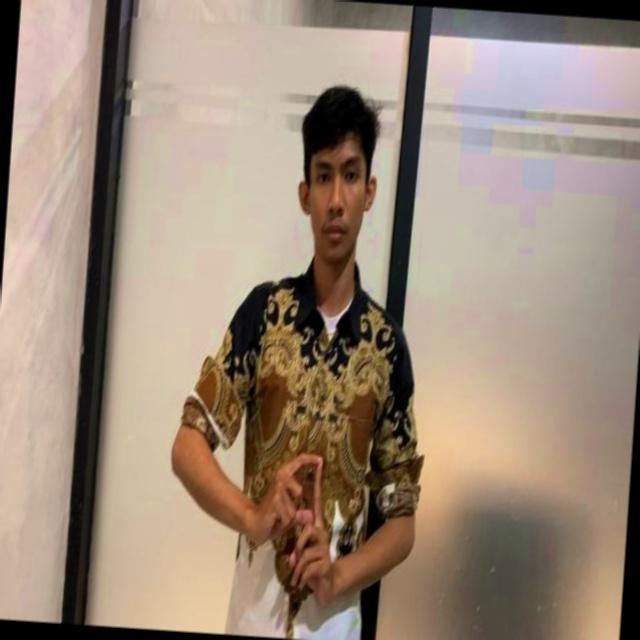D: (264, 446, 339, 570)
